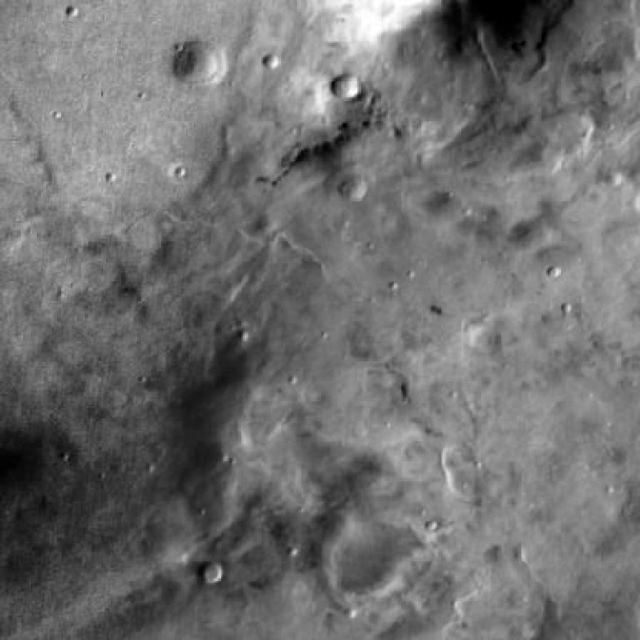crater: (174, 37, 226, 83), (333, 75, 359, 98), (342, 178, 366, 200), (199, 562, 223, 583)
